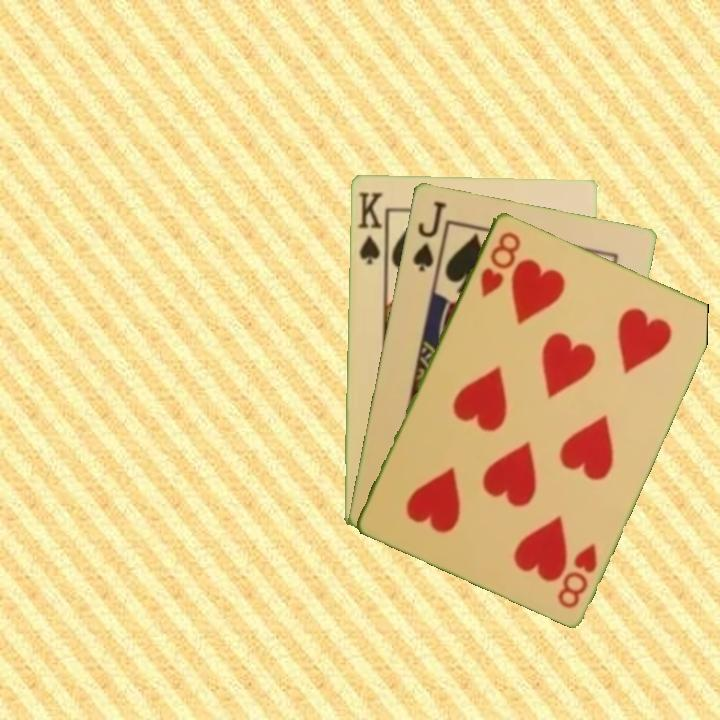8h: (476, 227, 524, 300), (553, 540, 600, 611)
Js: (408, 197, 449, 274)
Ks: (354, 188, 387, 268)
